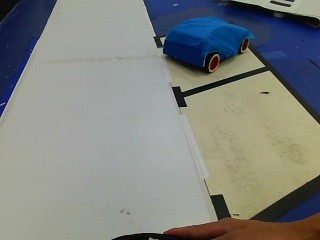car: (164, 16, 253, 72)
